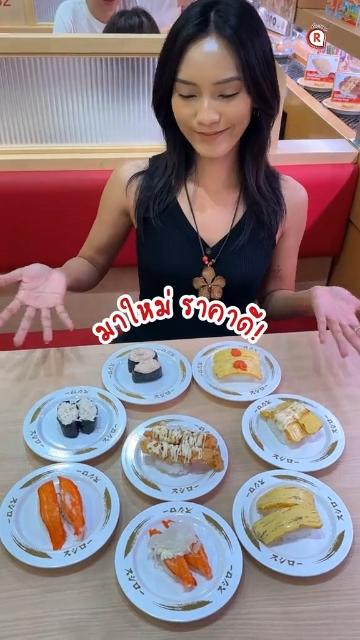janwhite: (314, 476, 360, 567), (151, 573, 234, 622), (80, 454, 122, 542), (0, 479, 38, 572), (203, 498, 246, 572), (116, 469, 220, 497), (115, 527, 146, 610), (23, 389, 58, 459), (248, 547, 327, 576), (279, 444, 359, 470), (105, 396, 131, 465), (247, 406, 276, 464), (129, 380, 194, 404), (216, 375, 277, 400), (99, 348, 126, 393), (193, 344, 214, 398)
